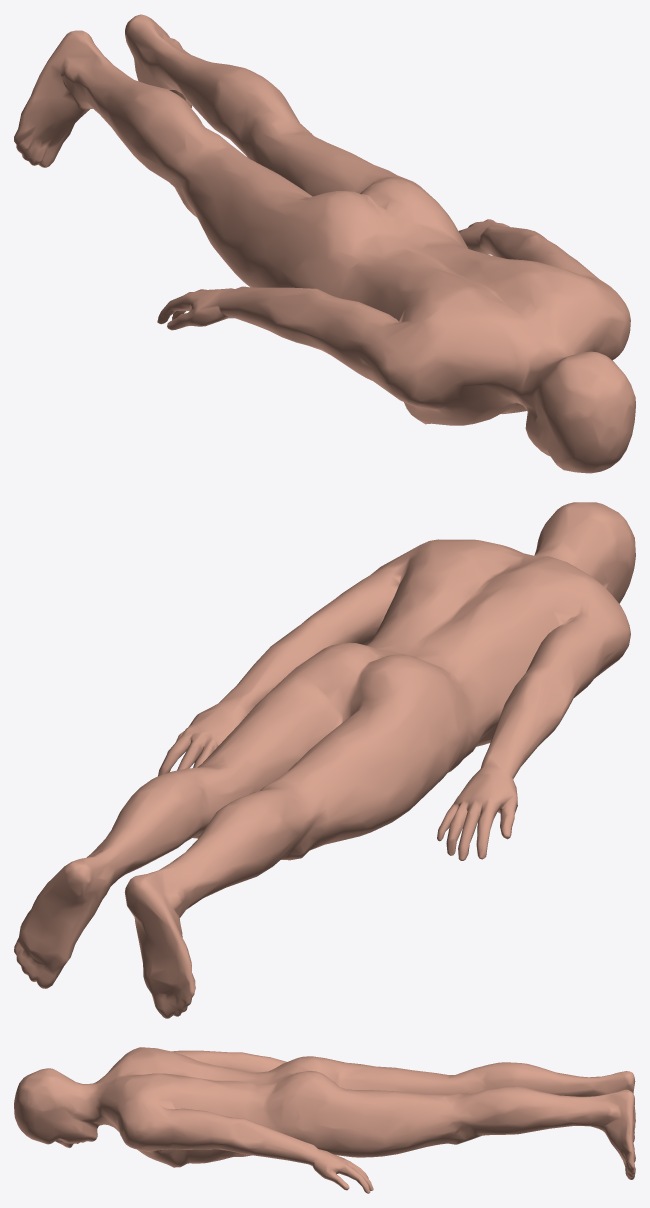
Rendered from skin.glb.
3 views of the same model, one above another, from view 1: azimuth 30°, elevation 25°; view 2: azimuth 150°, elevation 25°; view 3: azimuth 270°, elevation 25° (orthographic). The views are drawn at different scales.
Visible parts, largest first — view 1: 皮肤; view 2: 皮肤; view 3: 皮肤.
Boxes of the visible parts, x1=… form: 皮肤: x1=14, y1=14, x2=635, y2=473; 皮肤: x1=14, y1=502, x2=635, y2=1018; 皮肤: x1=14, y1=1047, x2=635, y2=1193.
Size of the model in its own units: 0.9861 by 0.4315 by 2.54.
